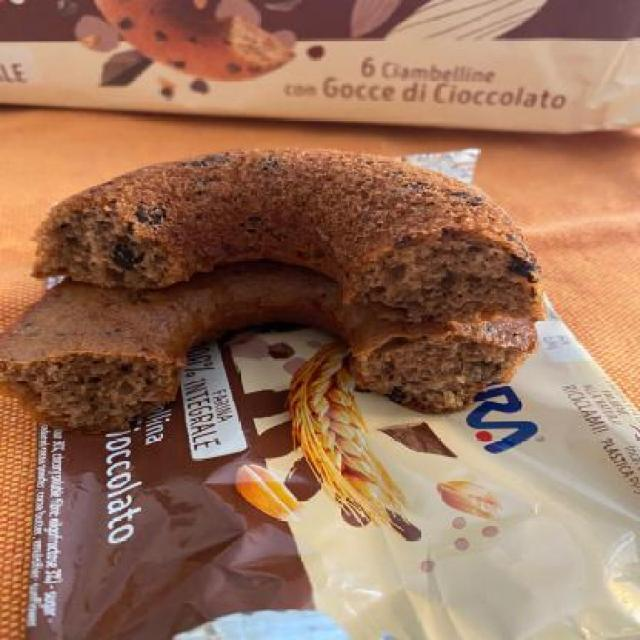Merendine packaged: (0, 157, 546, 426)
